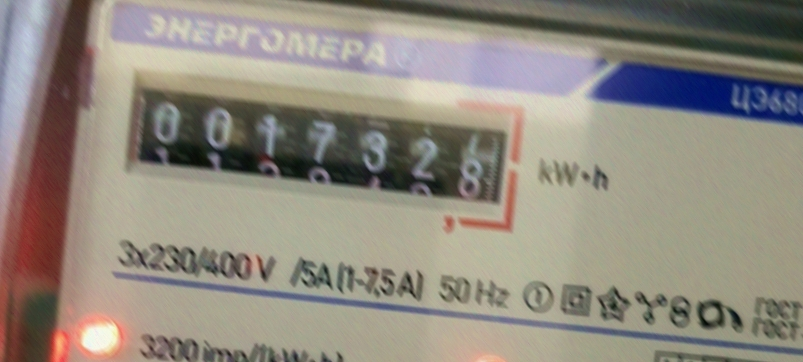0: (148, 98, 185, 146), (202, 102, 236, 150)
1: (256, 109, 282, 158)
2: (407, 133, 441, 181)
3: (359, 127, 391, 173)
7: (305, 117, 337, 166)
8: (454, 155, 484, 199)
screen: (111, 61, 534, 236)
